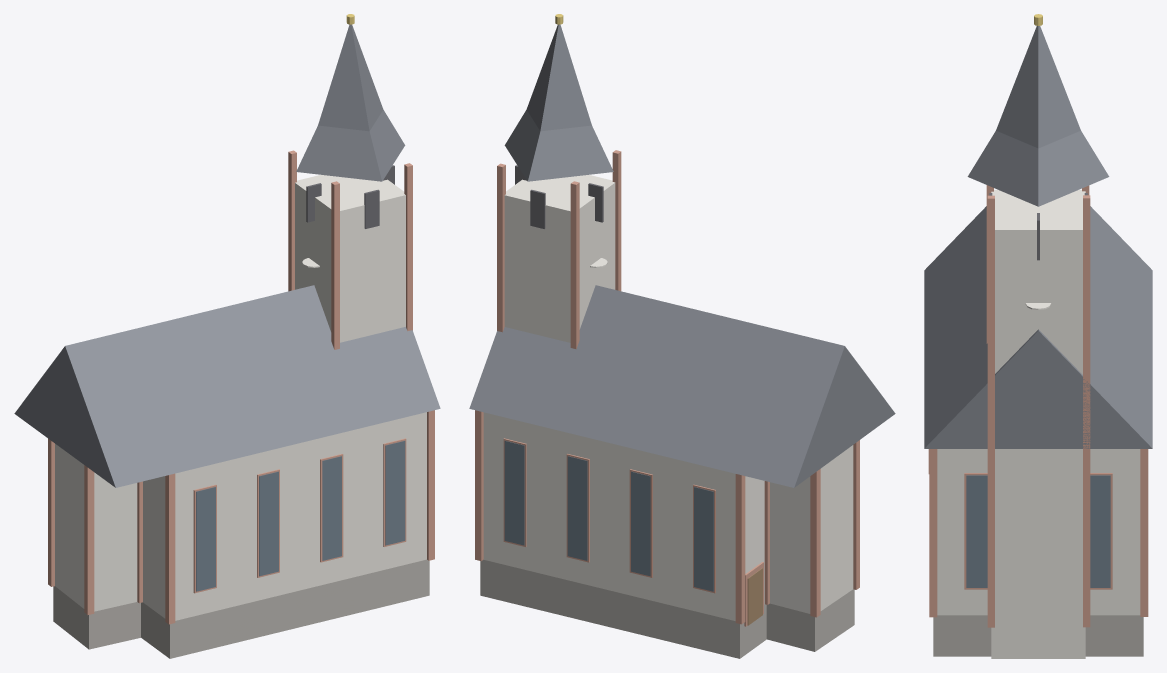
Rendered from church-johanniter-kirche.glb.
The picture shows the model from 3 angles, left to right: view 1: azimuth 30°, elevation 25°; view 2: azimuth 150°, elevation 25°; view 3: azimuth 270°, elevation 25°; orthographic projection. The views are drawn at different scales.
Parts seen in each view (by area): view 1: building; view 2: building; view 3: building.
Boxes of the visible parts, x1,y1,x2,y2 form: building: (14, 14, 440, 658); building: (469, 14, 895, 658); building: (924, 14, 1152, 658).
Size of the model in its own units: 24.23 by 37.67 by 12.52.
